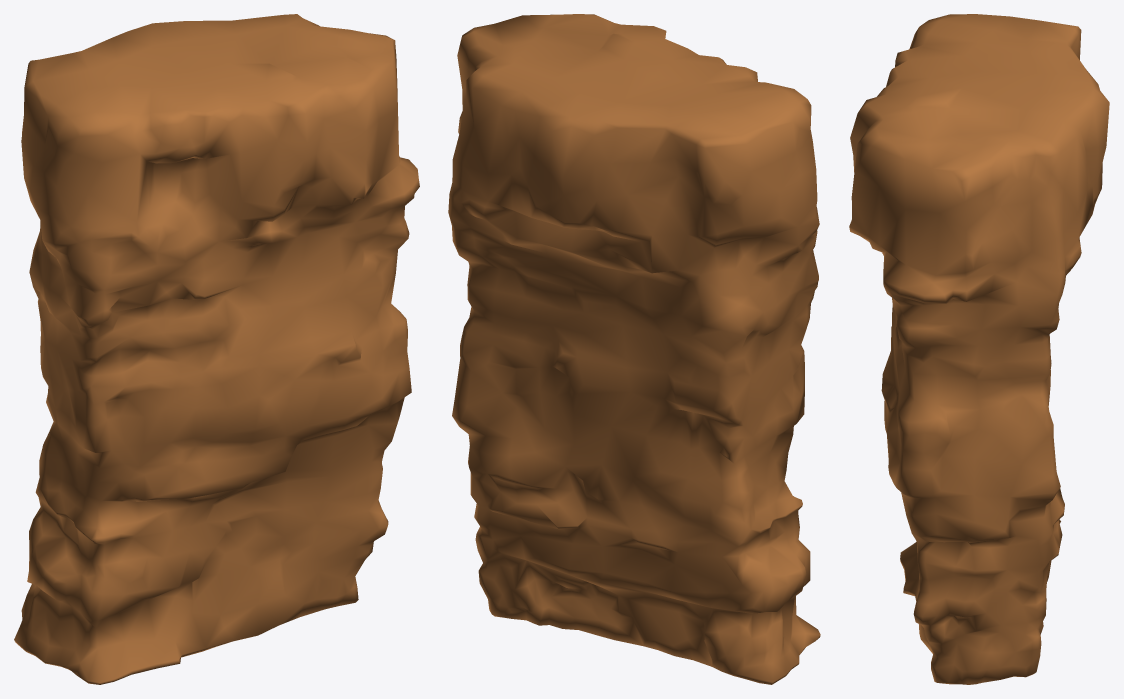
The model's file is MSH_Rocks_Cliff_15_b.FBX.
The picture shows the model from 3 angles, left to right: view 1: azimuth 30°, elevation 25°; view 2: azimuth 150°, elevation 25°; view 3: azimuth 270°, elevation 25°; orthographic projection. The views are drawn at different scales.
Visible parts, largest first — view 1: MESH_LOD0; view 2: MESH_LOD0; view 3: MESH_LOD0.
Boxes of the visible parts, x1,y1,x2,y2 form: MESH_LOD0: [14, 14, 419, 684]; MESH_LOD0: [448, 14, 820, 684]; MESH_LOD0: [849, 14, 1109, 684].
Size of what is drawn, in the model's own units: 319 by 484 by 208.
